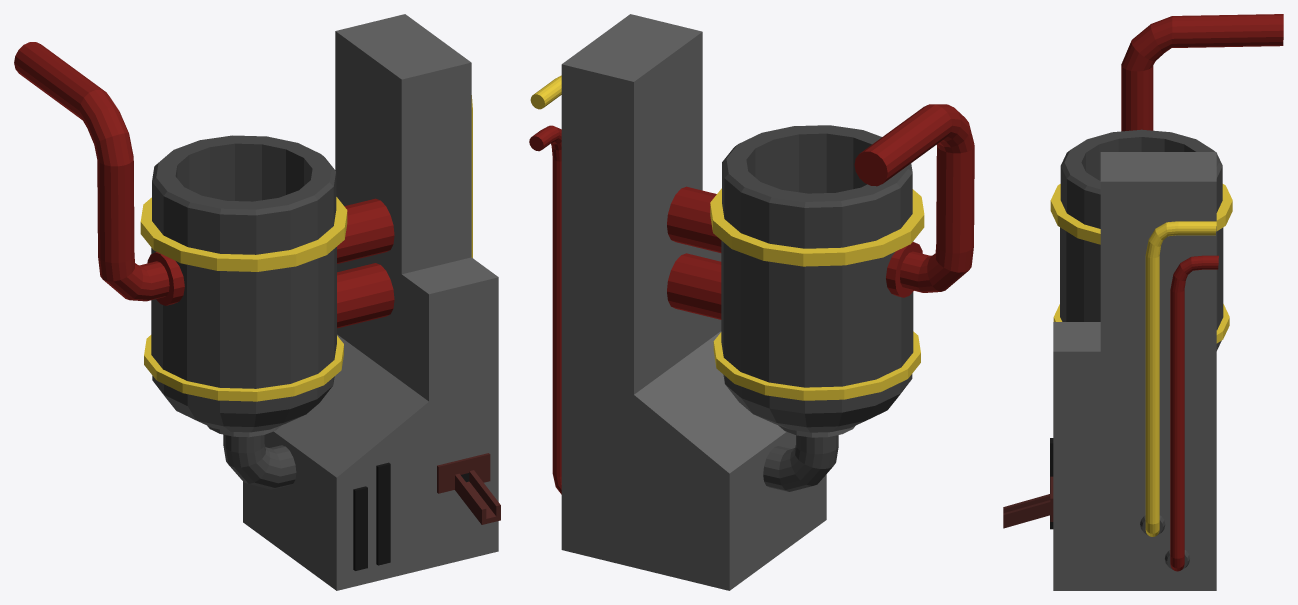
File: smelter.fbx
3 views of the same model, side by side, from view 1: azimuth 30°, elevation 25°; view 2: azimuth 150°, elevation 25°; view 3: azimuth 270°, elevation 25° (orthographic). The views are drawn at different scales.
Visible parts, largest first — view 1: Smelter; view 2: Smelter; view 3: Smelter.
Boxes of the visible parts, left/top/right/bottom form: Smelter: left=14, top=14, right=500, bottom=590; Smelter: left=529, top=14, right=974, bottom=590; Smelter: left=1003, top=14, right=1283, bottom=590.
Bounding box in the file's own units: 473 × 344 × 584.
